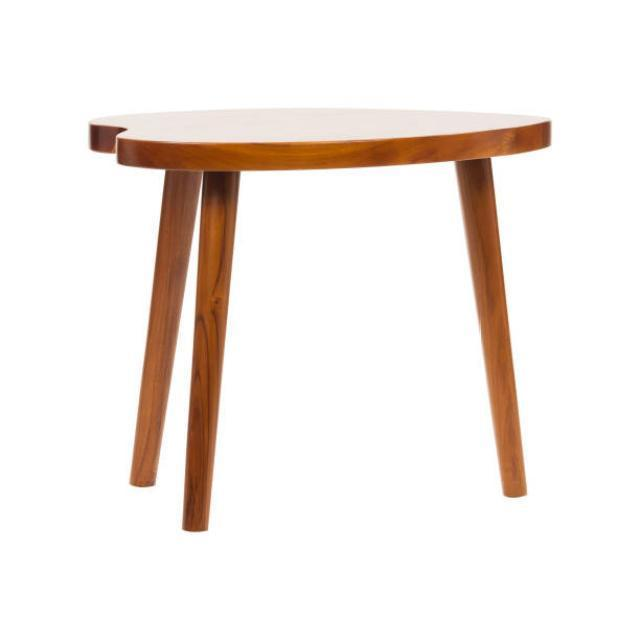table: (88, 106, 552, 532)
